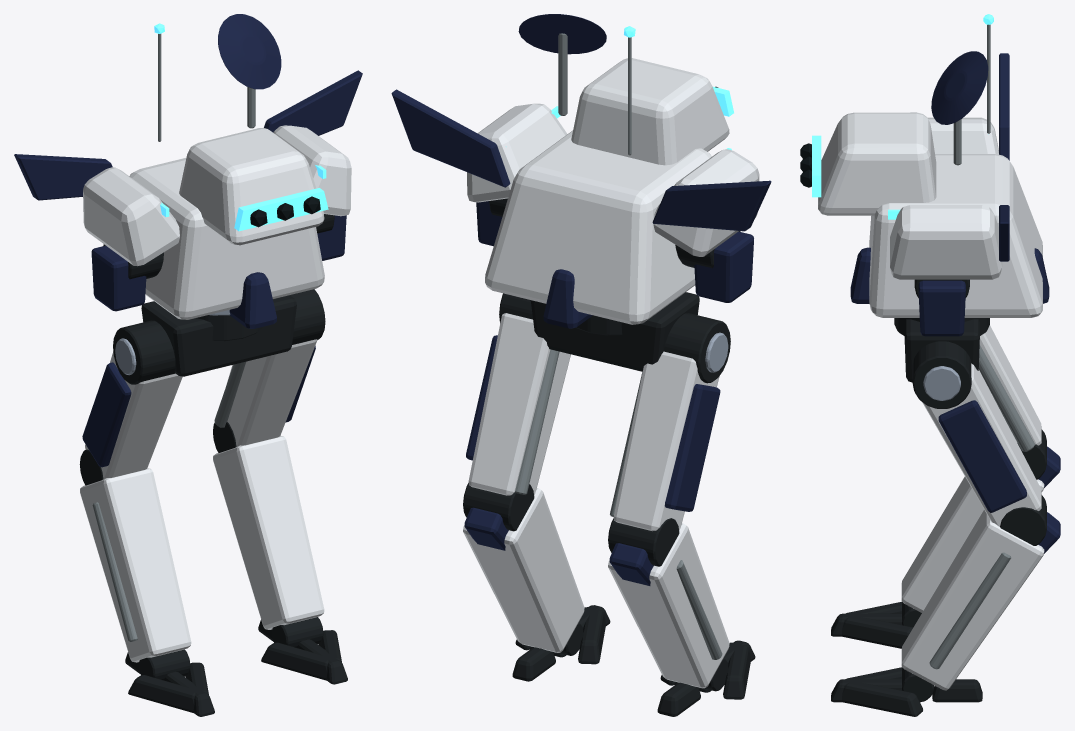
File: mech_vector.glb
3 views of the same model, side by side, from view 1: azimuth 30°, elevation 25°; view 2: azimuth 150°, elevation 25°; view 3: azimuth 270°, elevation 25° (orthographic). The views are drawn at different scales.
Parts seen in each view (by area): view 1: core, shin_armor_R, shin_armor_L, head, cowl_L, pelvis, thigh_armor_R, thigh_armor_L, dish, cowl_R, fin_L, fin_R (+18 smaller); view 2: core, head, thigh_armor_R, shin_armor_R, thigh_armor_L, shin_armor_L, pelvis, fin_R, fin_L, cowl_R, thigh_plate_L, cowl_L (+20 smaller); view 3: core, head, shin_armor_R, cowl_R, thigh_plate_R, shin_armor_L, thigh_armor_R, dish, upper_arm_R, hip_joint_R, thigh_armor_L, cowl_L (+20 smaller).
Boxes of the visible parts, x1,y1,x2,y2 form: core: (103,158,324,319); shin_armor_R: (213,435,324,629); shin_armor_L: (80,468,191,662); head: (179,128,324,245); cowl_L: (83,167,179,266); pelvis: (141,295,296,376); thigh_armor_R: (227,339,317,446); thigh_armor_L: (85,352,182,478); dish: (218,14,281,89); cowl_R: (273,125,351,216); fin_L: (14,154,112,200); fin_R: (264,70,362,135); core: (485,130,711,324); head: (571,58,729,165); thigh_armor_R: (468,313,570,495); shin_armor_R: (463,488,584,652); thigh_armor_L: (613,351,719,531); shin_armor_L: (608,523,729,688); pelvis: (530,292,699,371); fin_R: (391,89,510,187); fin_L: (652,180,771,231); cowl_R: (467,103,567,202); thigh_plate_L: (664,384,720,511); cowl_L: (653,149,759,256); core: (869,154,1042,317); head: (818,112,936,215); shin_armor_R: (901,510,1044,690); cowl_R: (890,205,1002,279); thigh_plate_R: (938,400,1026,512); shin_armor_L: (901,476,1044,612); thigh_armor_R: (922,363,1041,526); dish: (931,51,988,124); upper_arm_R: (918,280,965,336); hip_joint_R: (912,341,971,408); thigh_armor_L: (979,325,1041,445); cowl_L: (927,117,998,154).
Bounding box in the file's own units: 5.18 × 9.03 × 3.36.
